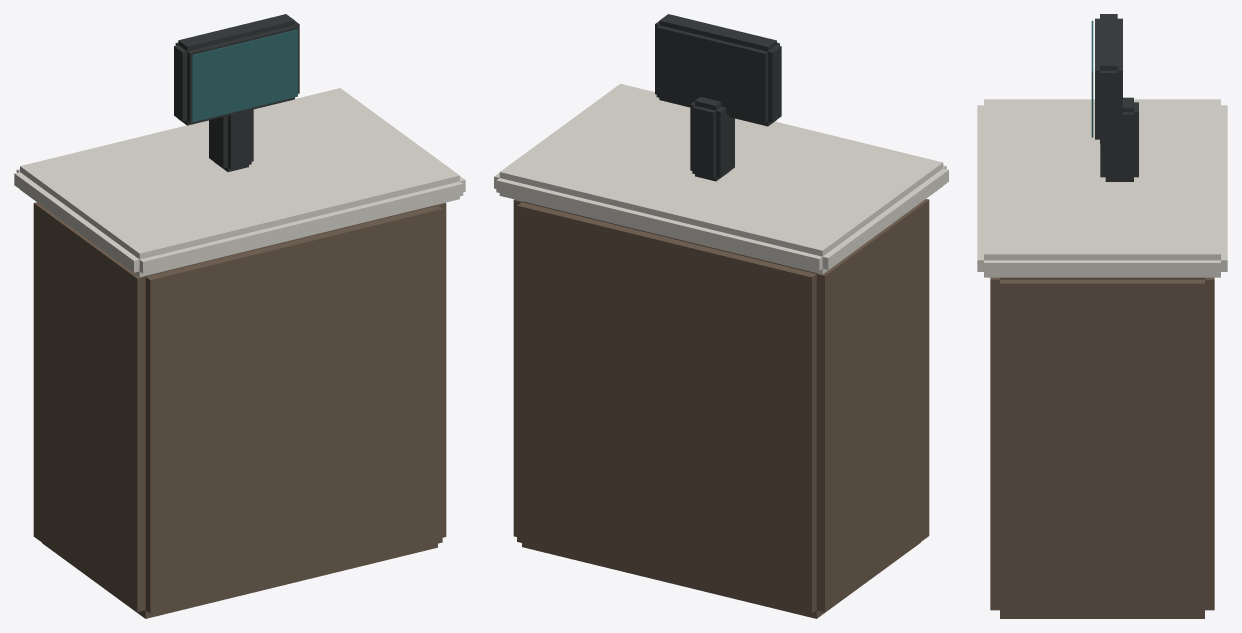
Rendered from compact_till.glb.
The picture shows the model from 3 angles, left to right: view 1: azimuth 30°, elevation 25°; view 2: azimuth 150°, elevation 25°; view 3: azimuth 270°, elevation 25°; orthographic projection.
Parts seen in each view (by area): view 1: compact_till_Toilet_walnut_laminate, compact_till_Honed_solid_surface, compact_till_POS_slate, compact_till_Anodised_graphite; view 2: compact_till_Toilet_walnut_laminate, compact_till_Honed_solid_surface, compact_till_Anodised_graphite; view 3: compact_till_Toilet_walnut_laminate, compact_till_Honed_solid_surface, compact_till_Anodised_graphite.
Boxes of the visible parts, bbox=[...] form: compact_till_Toilet_walnut_laminate: bbox=[33, 202, 446, 618]; compact_till_Honed_solid_surface: bbox=[14, 88, 465, 277]; compact_till_POS_slate: bbox=[192, 29, 297, 122]; compact_till_Anodised_graphite: bbox=[174, 14, 299, 171]; compact_till_Toilet_walnut_laminate: bbox=[513, 199, 929, 618]; compact_till_Honed_solid_surface: bbox=[494, 83, 948, 274]; compact_till_Anodised_graphite: bbox=[655, 14, 781, 181]; compact_till_Toilet_walnut_laminate: bbox=[990, 277, 1214, 618]; compact_till_Honed_solid_surface: bbox=[977, 99, 1227, 277]; compact_till_Anodised_graphite: bbox=[1095, 14, 1138, 181].
Bounding box in the file's own units: 0.88 × 1.3 × 0.58.
